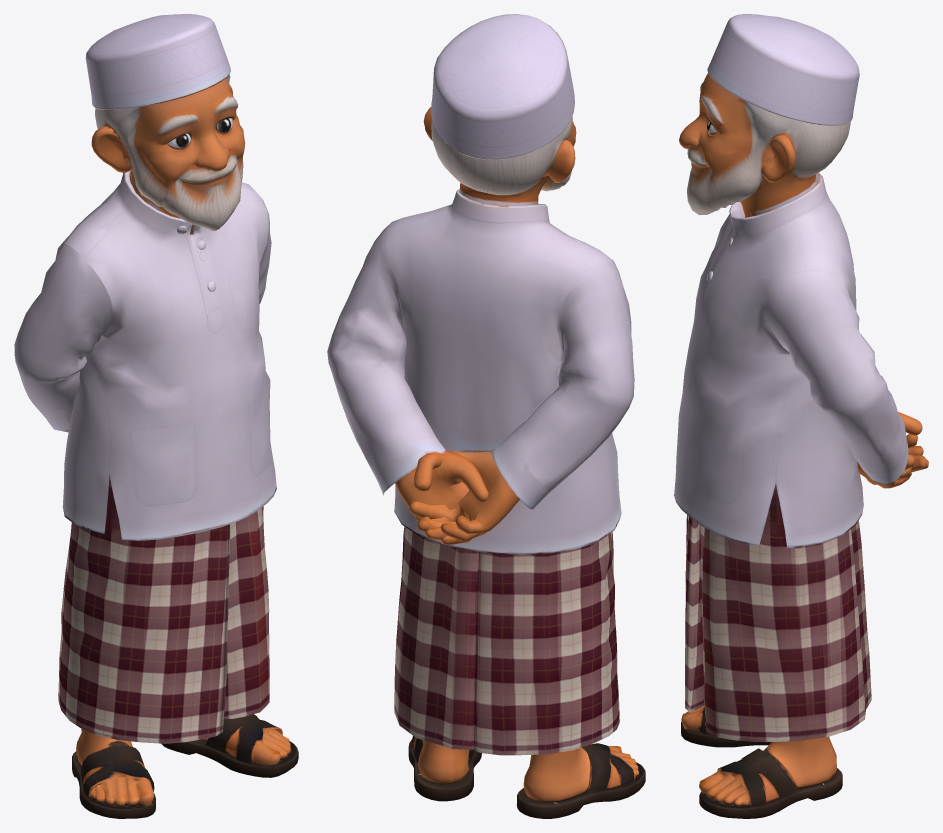
The model's file is TokAbah.glb.
The picture shows the model from 3 angles, left to right: view 1: azimuth 30°, elevation 25°; view 2: azimuth 150°, elevation 25°; view 3: azimuth 270°, elevation 25°; orthographic projection.
Visible parts, largest first — view 1: tripo_83ac6a80_e523_4834_b017_46419c3cf305; view 2: tripo_83ac6a80_e523_4834_b017_46419c3cf305; view 3: tripo_83ac6a80_e523_4834_b017_46419c3cf305.
Part boxes in pixels (bbox=[...]): tripo_83ac6a80_e523_4834_b017_46419c3cf305: bbox=[14, 14, 298, 818]; tripo_83ac6a80_e523_4834_b017_46419c3cf305: bbox=[327, 14, 645, 818]; tripo_83ac6a80_e523_4834_b017_46419c3cf305: bbox=[674, 14, 928, 818].
Bounding box in the file's own units: 0.3755 × 0.9995 × 0.3091.
Materials: 1 (1 with a texture image).
